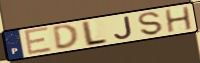D: (51, 23, 81, 51)
E: (22, 26, 54, 57)
H: (163, 5, 195, 34)
J: (113, 14, 135, 40)
L: (82, 20, 110, 48)
S: (137, 11, 164, 36)
